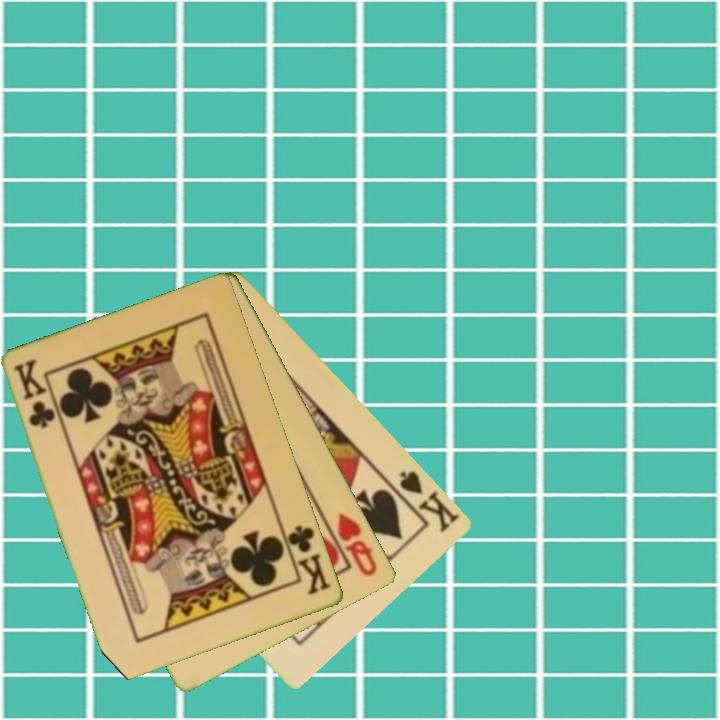Kc: (279, 522, 334, 599), (10, 356, 58, 432)
Ks: (385, 467, 463, 536)
Qh: (334, 509, 381, 580)
